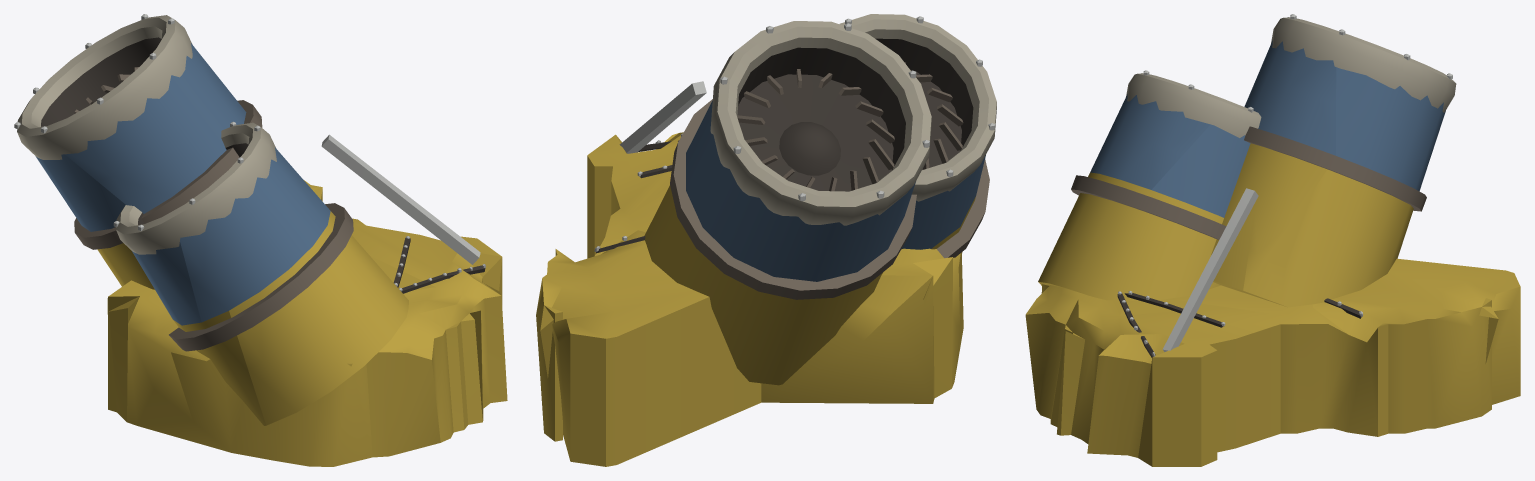
File: crash-site-spaceship-wreck-big-2.glb
3 renders of one model, left to right at view 1: azimuth 30°, elevation 25°; view 2: azimuth 150°, elevation 25°; view 3: azimuth 270°, elevation 25°, orthographic. The views are drawn at different scales.
Parts seen in each view (by area): view 1: body; view 2: body; view 3: body.
Boxes of the visible parts, x1,y1,x2,y2 form: body: [14, 14, 507, 466]; body: [536, 14, 996, 466]; body: [1025, 14, 1520, 466].
Size of the model in its own units: 2.74 by 2.39 by 3.27.
